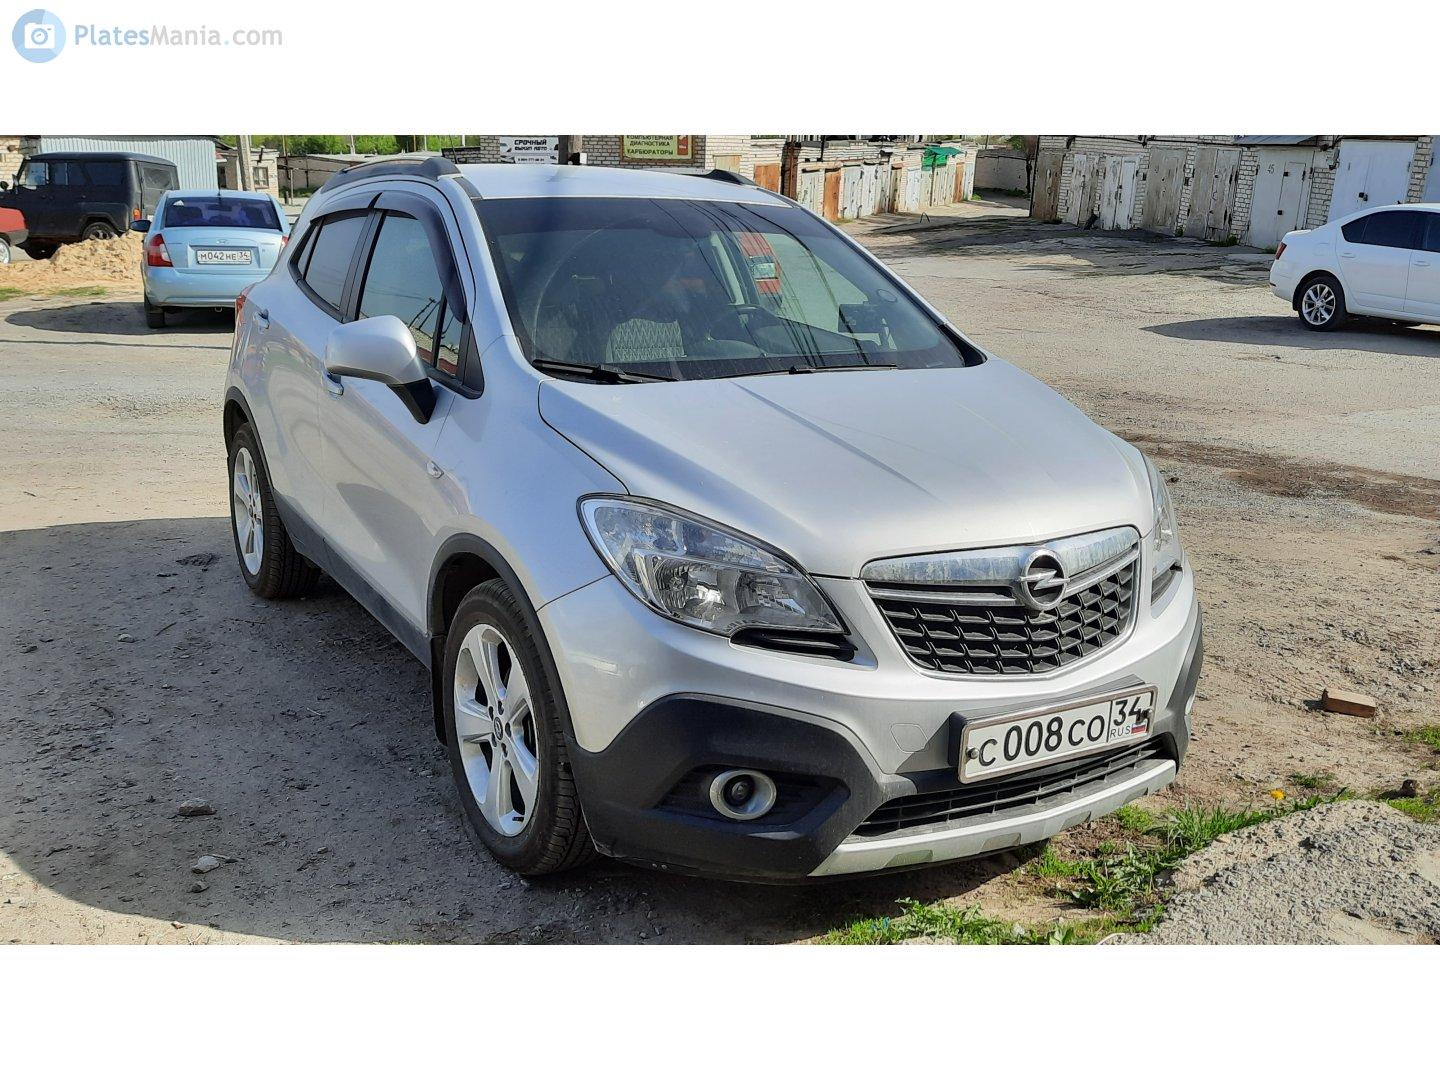license-plateSW: (964, 685, 1157, 779), (194, 249, 258, 264)
